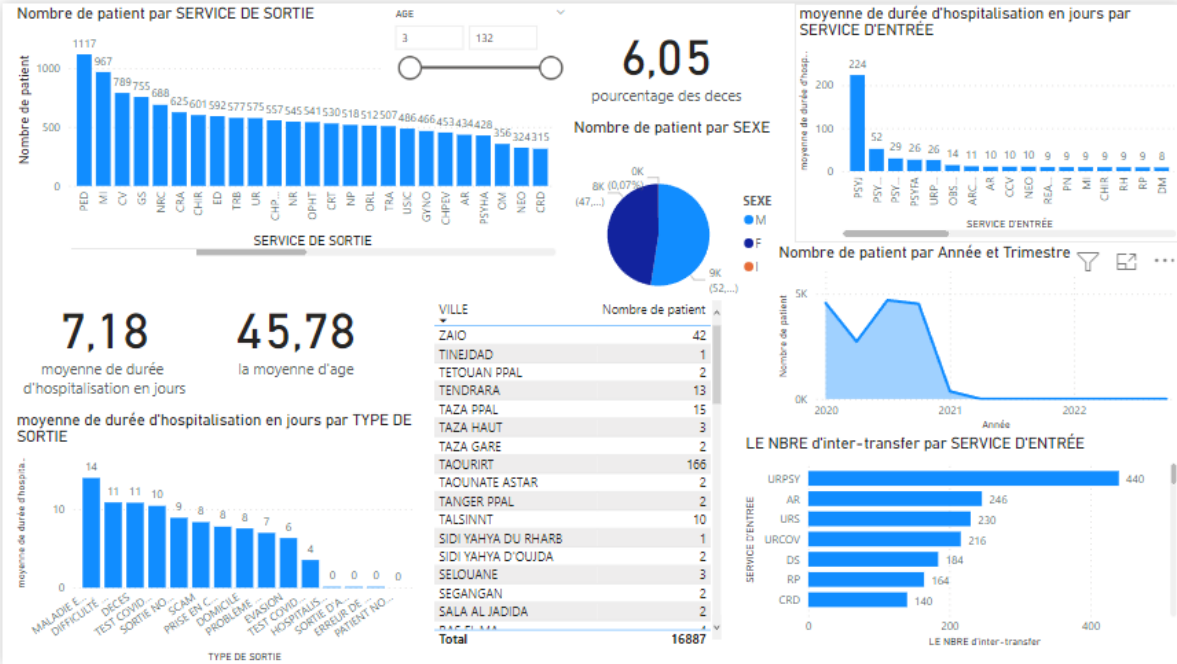

The page's visual inventory and layout, read from the dashboard file:
{"tool":"powerbi","page":{"name":"Dashboard1","canvas":[1280,720],"ordinal":0},"visuals":[{"type":"pieChart","fields":{"Category":["Sheet1.SEXE"],"Y":["Sheet1.Nombre de patient"]},"box":[614.9,123.8,244.8,236.2],"z":0},{"type":"clusteredColumnChart","fields":{"Y":["Sheet1.Nombre de patient"],"Category":["Sheet1.SERVICE DE SORTIE"]},"box":[10.1,0,594.7,279.4],"z":1000},{"type":"areaChart","fields":{"Category":["Sheet1.DATE SORTIE.Variation.Hiérarchie de dates.Année","Sheet1.DATE SORTIE.Variation.Hiérarchie de dates.Trimestre"],"Y":["Sheet1.Nombre de patient"]},"box":[836.6,259.2,443.5,208.8],"z":2000},{"type":"clusteredColumnChart","fields":{"Category":["Sheet1.SERVICE D'ENTRÉE"],"Y":["Sheet1.moyenne de durée d'hospitalisation en jours"]},"box":[859.7,0,420.5,259.2],"z":3000},{"type":"card","fields":{"Values":["Sheet1.moyenne de durée d'hospitalisation en jours"]},"box":[10,266.7,200,184.4],"z":4000},{"type":"clusteredColumnChart","fields":{"Y":["Sheet1.moyenne de durée d'hospitalisation en jours"],"Category":["Sheet1.TYPE DE SORTIE"]},"box":[10,441.1,443.3,278.9],"z":5000},{"type":"barChart","fields":{"Category":["Sheet1.SERVICE D'ENTRÉE"],"Y":["Sheet1.LE NBRE d'inter-transfer"]},"box":[800.8,467.7,479.1,236.7],"z":6000},{"type":"card","fields":{"Values":["Sheet1.pourcentage des deces"]},"box":[602.4,0,235.3,123.3],"z":7000},{"type":"card","fields":{"Values":["Sheet1.la moyenne d'age"]},"box":[226.8,296.2,182.8,126.1],"z":8000},{"type":"tableEx","fields":{"Values":["Sheet1.VILLE","Sheet1.Nombre de patient"]},"box":[462,317.5,321.7,386.9],"z":9000},{"type":"slicer","fields":{"Values":["Sheet1.AGE"]},"box":[413.9,0,209.8,100.6],"z":10000}]}

Visuals, with their boxes in screenshot pixels (x1, y1, x2, y2), scaled from the page's 1280x720 canvas onto the 1177x664 screenshot:
pieChart - Sheet1.SEXE x Sheet1.Nombre de patient: detection(565, 114, 791, 332)
clusteredColumnChart - Sheet1.Nombre de patient x Sheet1.SERVICE DE SORTIE: detection(9, 0, 556, 258)
areaChart - Sheet1.DATE SORTIE.Variation.Hiérarchie de dates.Année x Sheet1.DATE SORTIE.Variation.Hiérarchie de dates.Trimestre: detection(769, 239, 1176, 432)
clusteredColumnChart - Sheet1.SERVICE D'ENTRÉE x Sheet1.moyenne de durée d'hospitalisation en jours: detection(791, 0, 1176, 239)
card - Sheet1.moyenne de durée d'hospitalisation en jours: detection(9, 246, 193, 416)
clusteredColumnChart - Sheet1.moyenne de durée d'hospitalisation en jours x Sheet1.TYPE DE SORTIE: detection(9, 407, 417, 663)
barChart - Sheet1.SERVICE D'ENTRÉE x Sheet1.LE NBRE d'inter-transfer: detection(736, 431, 1176, 650)
card - Sheet1.pourcentage des deces: detection(554, 0, 770, 114)
card - Sheet1.la moyenne d'age: detection(209, 273, 377, 389)
tableEx - Sheet1.VILLE x Sheet1.Nombre de patient: detection(425, 293, 721, 650)
slicer - Sheet1.AGE: detection(381, 0, 574, 93)
